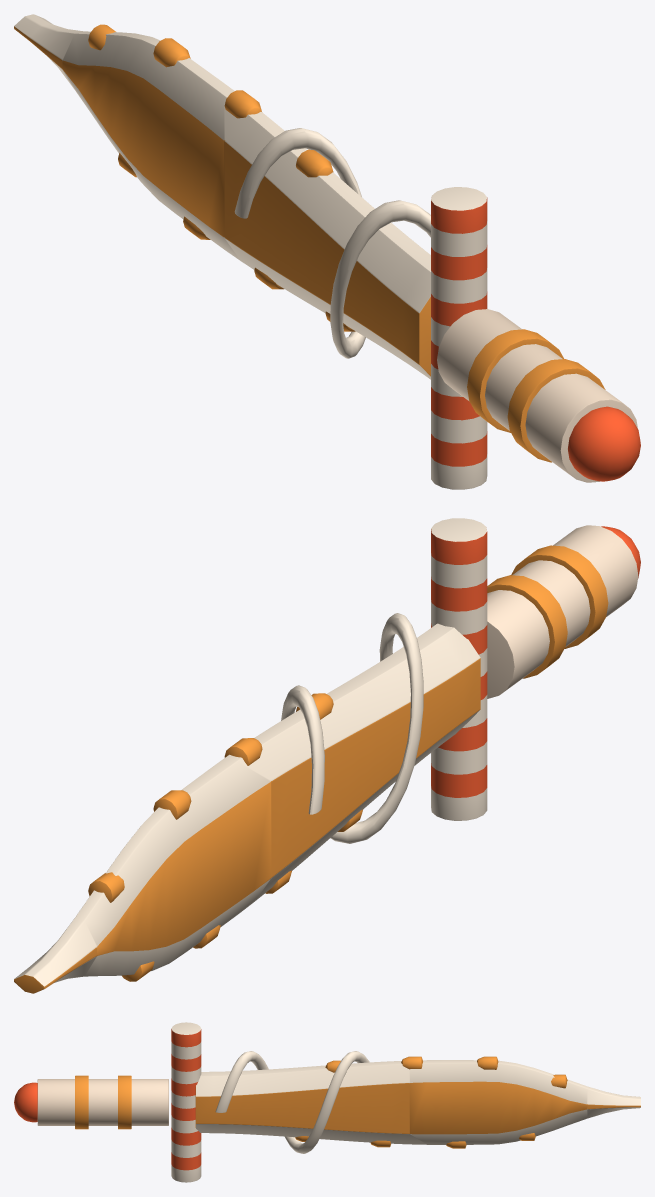
Rendered from Sword_CarameltClaymore.glb.
3 views of the same model, one above another, from view 1: azimuth 30°, elevation 25°; view 2: azimuth 150°, elevation 25°; view 3: azimuth 270°, elevation 25° (orthographic). The views are drawn at different scales.
Parts seen in each view (by area): view 1: Sword_CarameltClaymore; view 2: Sword_CarameltClaymore; view 3: Sword_CarameltClaymore.
Boxes of the visible parts, x1,y1,x2,y2 form: Sword_CarameltClaymore: [14, 14, 640, 489]; Sword_CarameltClaymore: [14, 518, 640, 993]; Sword_CarameltClaymore: [14, 1022, 640, 1182].
Bounding box in the file's own units: 0.086 × 0.26 × 1.
Materials: 1 (1 with a texture image).
